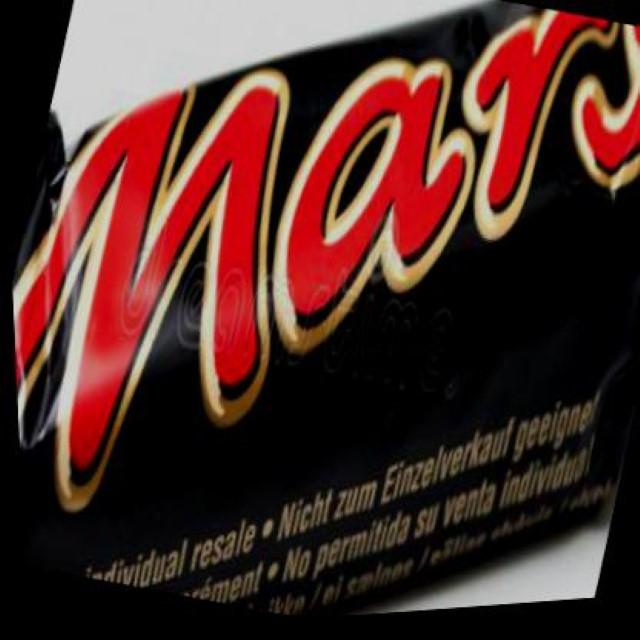mars_chocolate: (0, 20, 640, 598)
